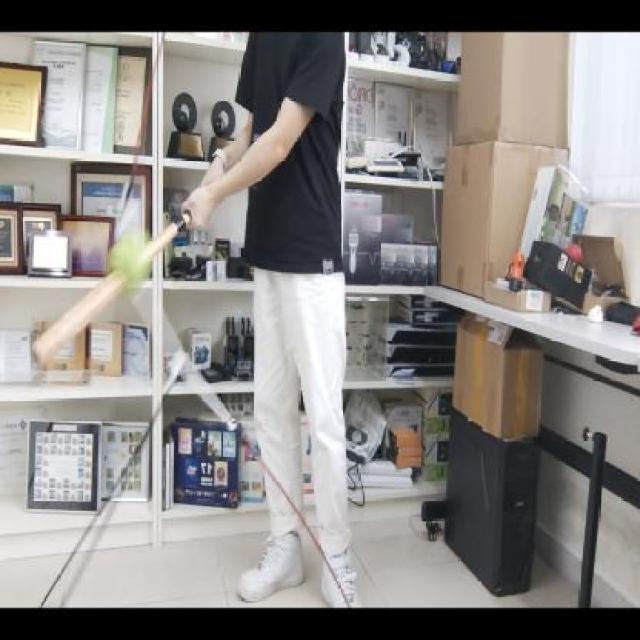baseball: (108, 232, 157, 296)
